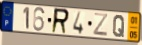1: (22, 6, 30, 31)
4: (72, 10, 86, 36)
6: (33, 7, 46, 33)
Q: (112, 14, 126, 38)
R: (50, 7, 70, 35)
Z: (92, 12, 109, 38)
